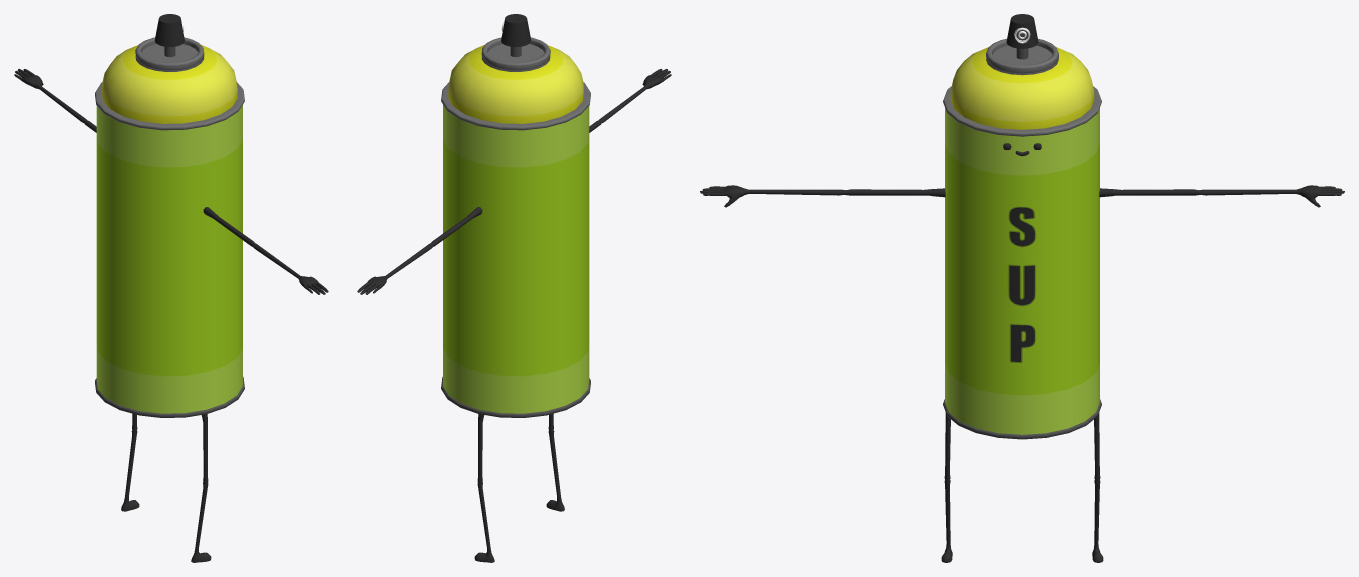
The model's file is scene_XQ53Xjgi46.glb.
The picture shows the model from 3 angles, left to right: view 1: azimuth 30°, elevation 25°; view 2: azimuth 150°, elevation 25°; view 3: azimuth 270°, elevation 25°; orthographic projection. The views are drawn at different scales.
Visible parts, largest first — view 1: _100Avatars_137_CoolCan; view 2: _100Avatars_137_CoolCan; view 3: _100Avatars_137_CoolCan.
Boxes of the visible parts, x1=… form: _100Avatars_137_CoolCan: x1=14, y1=14, x2=328, y2=562; _100Avatars_137_CoolCan: x1=357, y1=14, x2=671, y2=562; _100Avatars_137_CoolCan: x1=700, y1=14, x2=1344, y2=562.
Size of the model in its own units: 1.42 by 5.34 by 5.76.
Materials: 1 (1 with a texture image).
